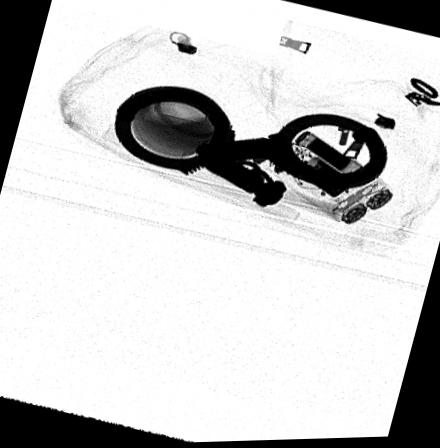HandCuffs: (114, 87, 387, 210)
